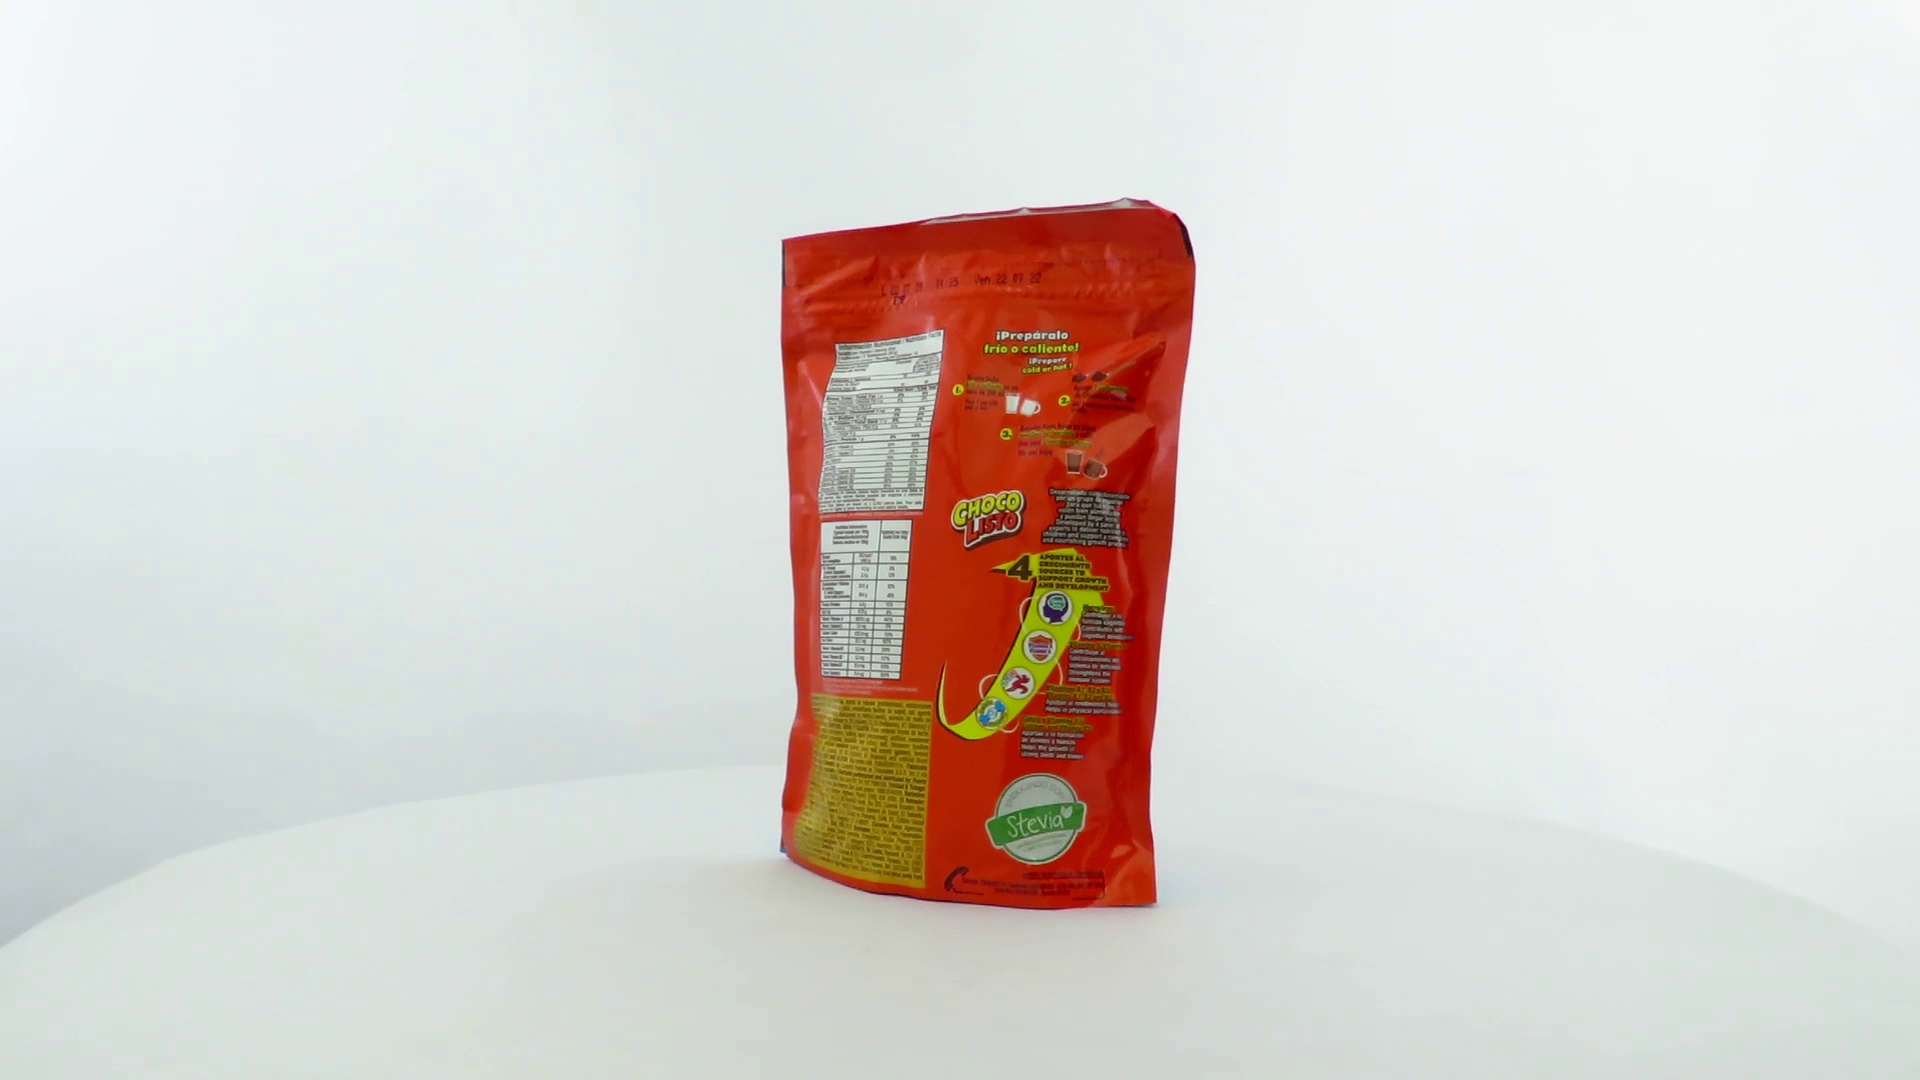COL0170104DYP20000: (774, 193, 1203, 916)
